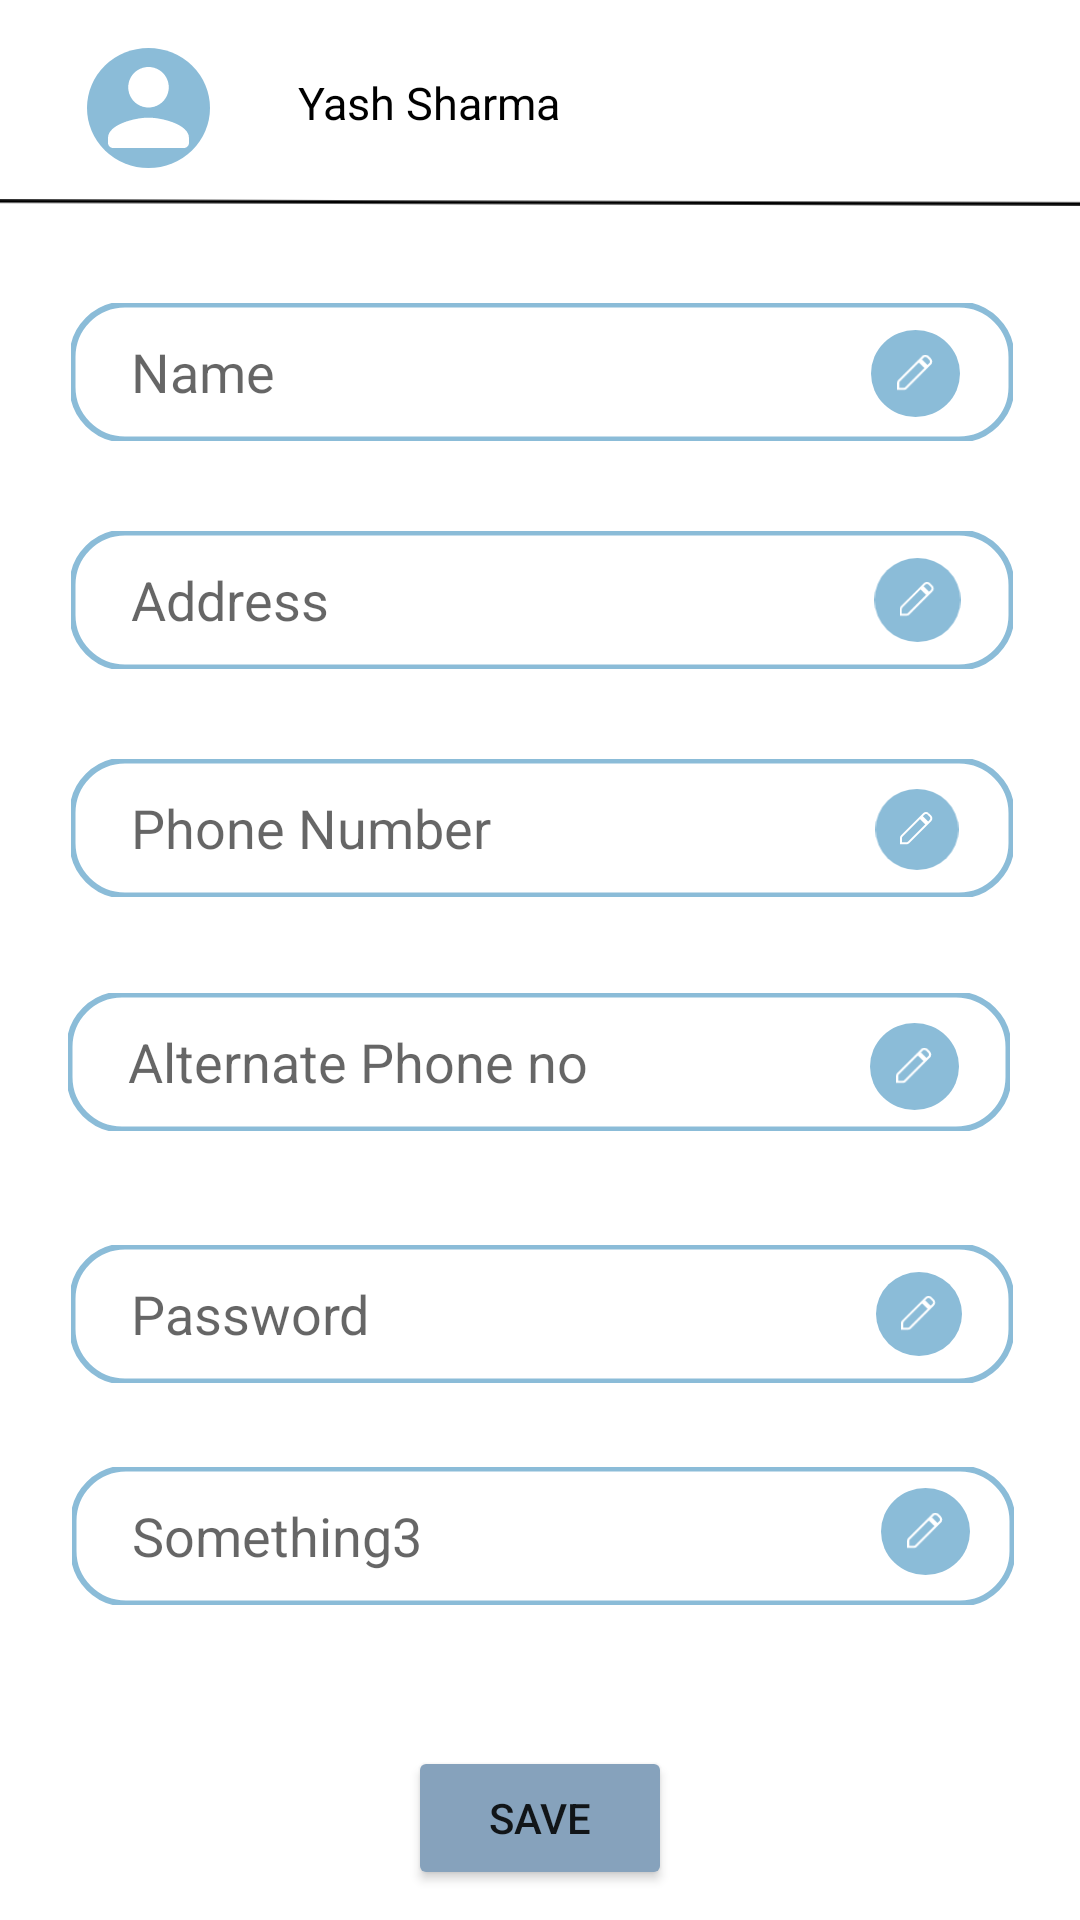

Where to tap for icons on this 1080w x 1920h app screen, as point (x, y):
editicon: point (915, 373), point (917, 600), point (917, 829), point (914, 1066), point (919, 1314), point (925, 1531)
profile: point (148, 108)
